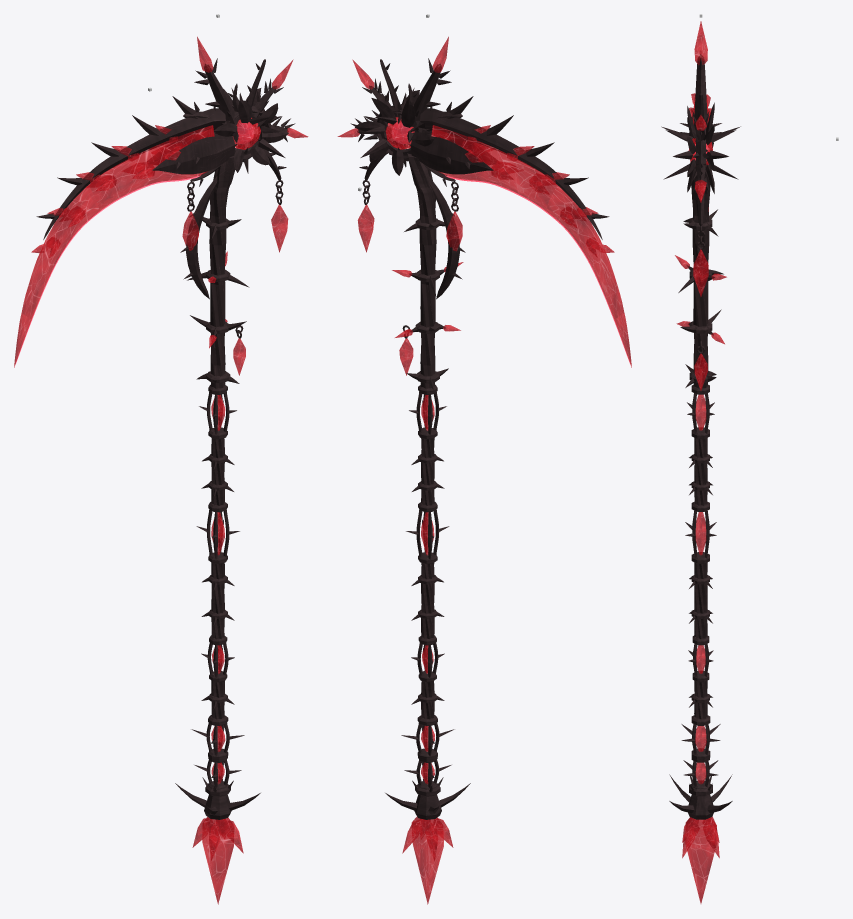
Rendered from Scythe.glb.
The picture shows the model from 3 angles, left to right: view 1: azimuth 30°, elevation 25°; view 2: azimuth 150°, elevation 25°; view 3: azimuth 270°, elevation 25°; orthographic projection.
Visible parts, largest first — view 1: Shaft, HeadArmor, Blade, Crystals, Glow; view 2: Shaft, HeadArmor, Blade, Crystals, Glow; view 3: Shaft, Crystals, HeadArmor.
Boxes of the visible parts, x1=… form: Shaft: x1=175, y1=154, x2=283, y2=819; HeadArmor: x1=36, y1=58, x2=295, y2=299; Blade: x1=14, y1=125, x2=214, y2=367; Crystals: x1=182, y1=36, x2=308, y2=904; Glow: x1=14, y1=123, x2=253, y2=366; Shaft: x1=362, y1=153, x2=470, y2=819; HeadArmor: x1=350, y1=58, x2=609, y2=299; Blade: x1=431, y1=125, x2=631, y2=367; Crystals: x1=337, y1=36, x2=463, y2=904; Glow: x1=392, y1=122, x2=631, y2=366; Shaft: x1=669, y1=164, x2=732, y2=819; Crystals: x1=675, y1=21, x2=726, y2=903; HeadArmor: x1=661, y1=54, x2=740, y2=225.
Size of the model in its own units: 2.5 by 7.21 by 1.31.
Materials: 4 (3 with a texture image).
